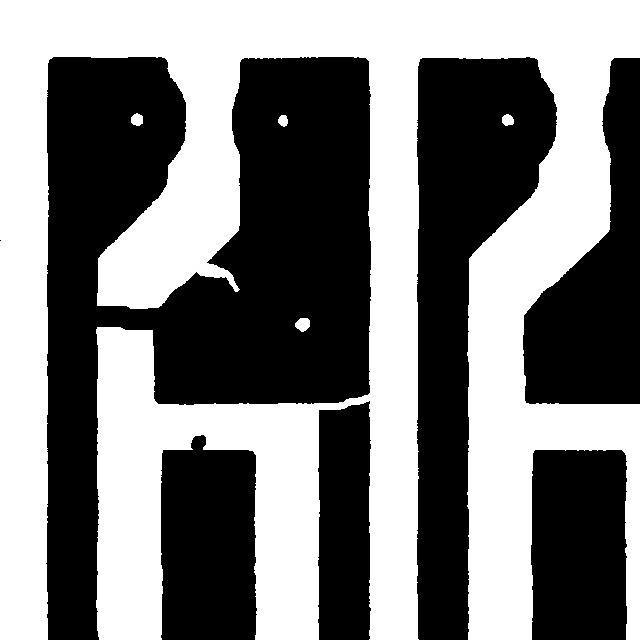mousebite: (186, 253, 249, 301)
open: (302, 382, 385, 420)
pin-hole: (285, 308, 319, 341)
short: (73, 296, 179, 339)
spur: (181, 425, 215, 463)
